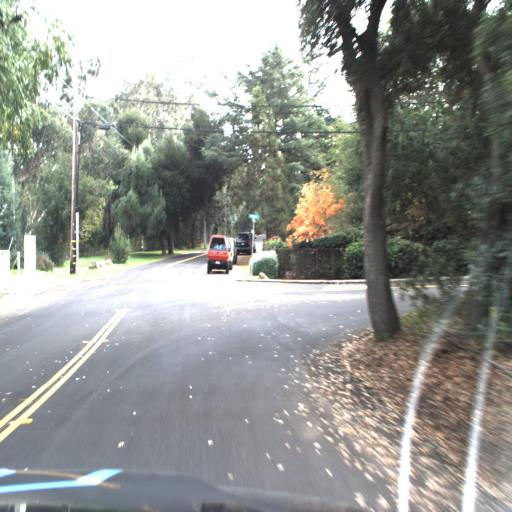car: (204, 230, 230, 279), (230, 228, 256, 256), (234, 228, 256, 258), (227, 234, 235, 268)
